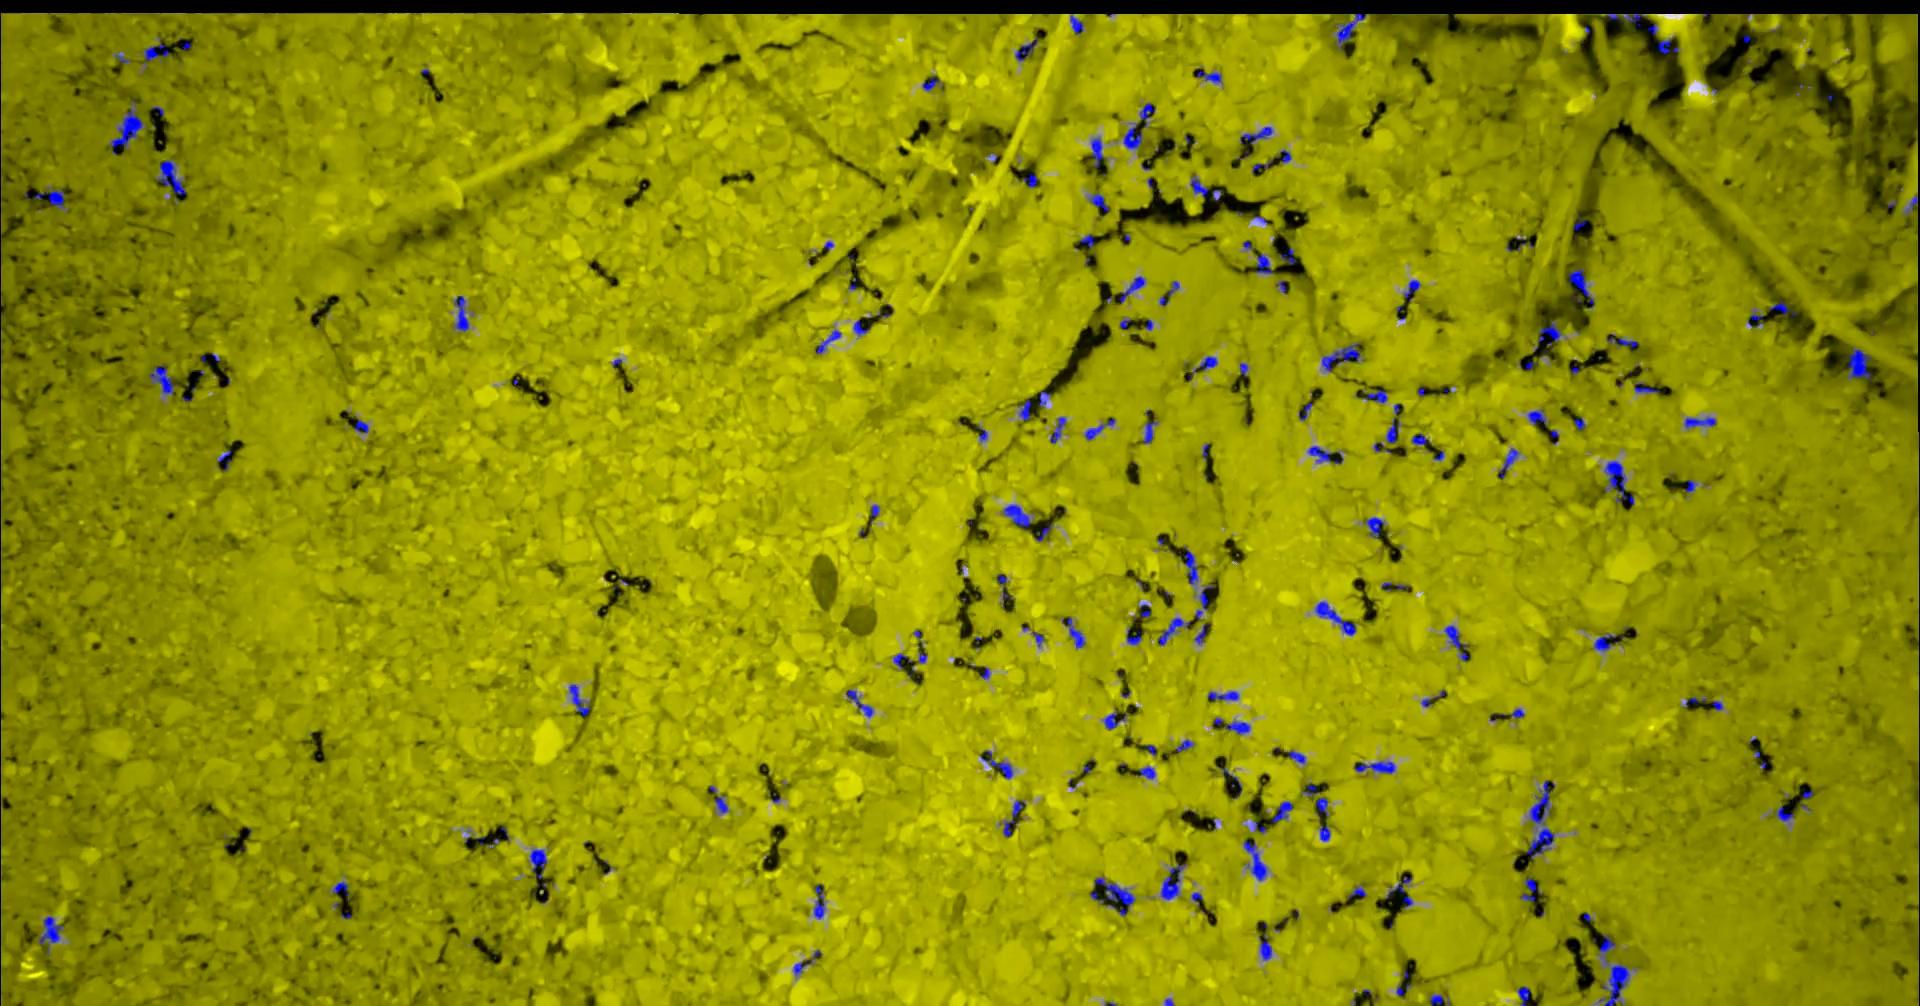ant: (1528, 780, 1556, 857), (110, 100, 145, 154), (1096, 876, 1137, 915), (1316, 601, 1357, 635), (1606, 460, 1636, 504), (1600, 963, 1630, 1005), (1337, 11, 1368, 50), (1323, 342, 1363, 371), (157, 159, 187, 196), (1570, 268, 1596, 307), (1244, 840, 1269, 880), (982, 749, 1015, 779), (1162, 862, 1187, 899), (1446, 625, 1472, 661), (1385, 876, 1415, 907), (1159, 617, 1191, 645), (151, 363, 179, 394), (1305, 784, 1330, 817), (1004, 800, 1026, 836), (1849, 347, 1873, 379), (847, 688, 874, 716), (795, 949, 823, 976), (41, 915, 65, 944), (1086, 417, 1116, 439), (1196, 584, 1217, 619), (145, 37, 170, 64), (1121, 276, 1147, 302), (1309, 445, 1345, 464), (570, 683, 590, 716), (1063, 617, 1086, 647), (36, 188, 66, 210), (1539, 320, 1563, 347), (1004, 504, 1032, 527), (1215, 716, 1251, 734), (1500, 447, 1520, 478), (817, 329, 842, 353), (1241, 126, 1274, 144), (1603, 13, 1647, 25), (455, 295, 470, 332), (998, 573, 1015, 606), (1224, 766, 1243, 794), (531, 848, 549, 878), (1161, 279, 1181, 305), (1356, 761, 1397, 774), (1600, 934, 1617, 964), (1016, 38, 1039, 60), (1523, 876, 1543, 901), (1125, 123, 1144, 149), (1608, 333, 1639, 348), (1092, 137, 1109, 166), (1185, 550, 1199, 584), (1272, 801, 1294, 822), (1144, 415, 1159, 443), (1192, 174, 1210, 197), (1404, 279, 1422, 302), (1051, 417, 1067, 443), (1103, 713, 1128, 729), (1595, 634, 1618, 650), (1771, 301, 1798, 315), (1142, 103, 1157, 127), (1368, 517, 1385, 537), (1658, 38, 1680, 55), (1260, 932, 1272, 960), (1686, 417, 1717, 428), (815, 884, 825, 918), (1091, 193, 1110, 211), (1363, 389, 1389, 401), (1257, 253, 1274, 273), (1197, 70, 1223, 83), (1388, 417, 1401, 442), (1529, 409, 1548, 426), (1280, 246, 1297, 264), (1036, 523, 1053, 541), (1200, 354, 1219, 370), (1777, 805, 1796, 821), (1070, 14, 1084, 34), (218, 450, 232, 470), (1195, 622, 1208, 644), (1209, 691, 1239, 700), (1300, 401, 1314, 420), (1128, 627, 1143, 644), (1289, 749, 1307, 763), (1021, 399, 1032, 420), (1636, 382, 1660, 392), (1519, 986, 1531, 1005), (855, 319, 870, 334), (1749, 312, 1765, 326), (334, 882, 350, 895), (1907, 196, 1920, 213), (716, 795, 729, 813), (1575, 215, 1589, 230), (1079, 232, 1095, 246), (1383, 582, 1411, 589), (924, 77, 941, 90), (895, 653, 908, 669), (1140, 766, 1157, 779), (1431, 995, 1451, 1005), (1413, 433, 1431, 445), (1321, 823, 1332, 841), (1350, 887, 1368, 898), (1025, 173, 1039, 187), (1177, 739, 1194, 751), (871, 504, 881, 522), (356, 419, 370, 432), (1688, 479, 1698, 493), (1142, 603, 1152, 617)
